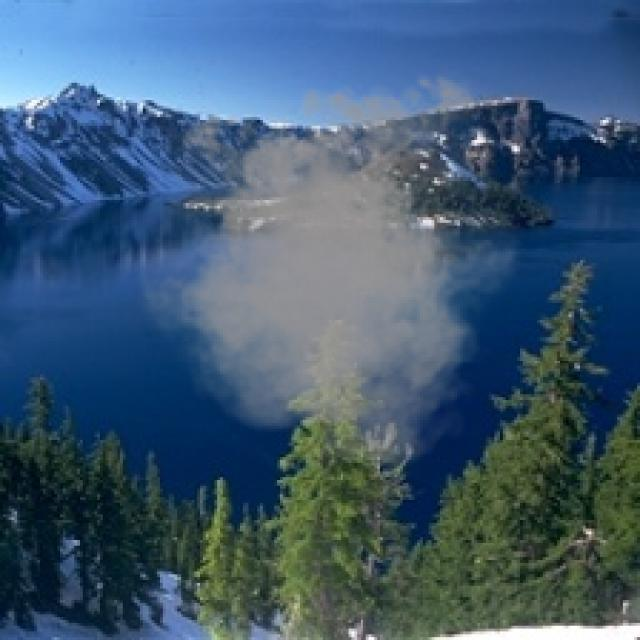Smoke: (120, 62, 537, 474)
